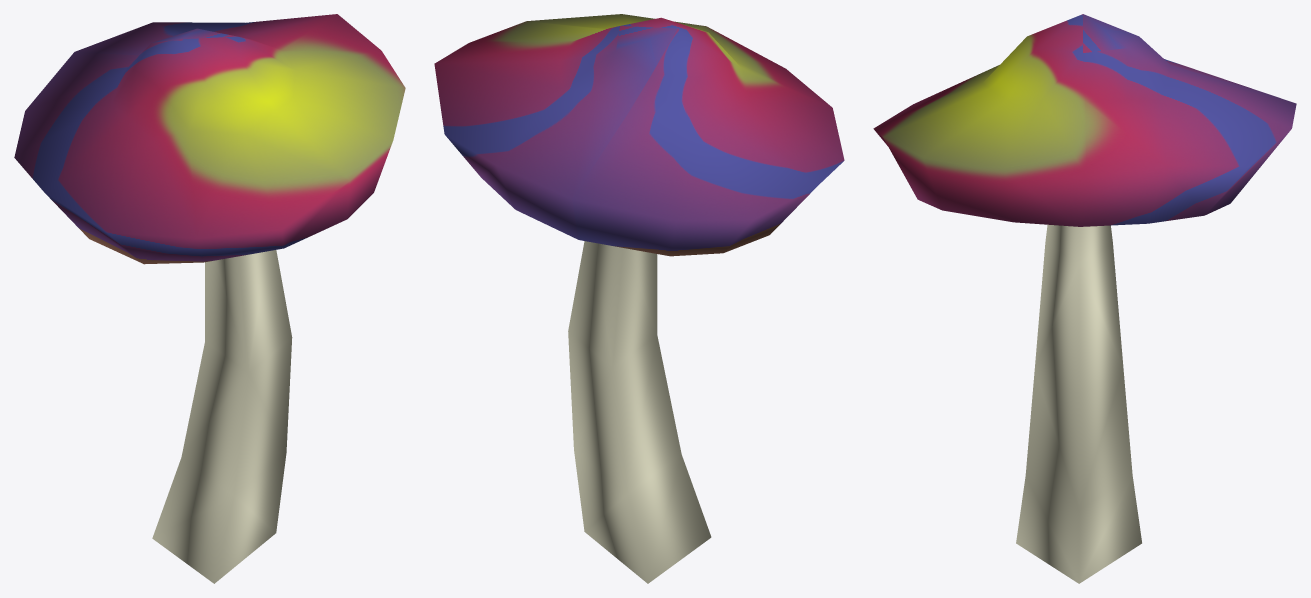
The model's file is Mushroom3.FBX.
3 views of the same model, side by side, from view 1: azimuth 30°, elevation 25°; view 2: azimuth 150°, elevation 25°; view 3: azimuth 270°, elevation 25° (orthographic). The views are drawn at different scales.
Visible parts, largest first — view 1: MayaMushroom3:polySurface22, MayaMushroom3:polySurface23; view 2: MayaMushroom3:polySurface22, MayaMushroom3:polySurface23; view 3: MayaMushroom3:polySurface22, MayaMushroom3:polySurface23.
Boxes of the visible parts, x1,y1,x2,y2 form: MayaMushroom3:polySurface22: [14, 14, 405, 264]; MayaMushroom3:polySurface23: [152, 250, 292, 583]; MayaMushroom3:polySurface22: [434, 14, 844, 256]; MayaMushroom3:polySurface23: [568, 241, 711, 583]; MayaMushroom3:polySurface22: [873, 14, 1296, 226]; MayaMushroom3:polySurface23: [1016, 224, 1141, 583].
Bounding box in the file's own units: 54.99 × 80.69 × 58.48.
